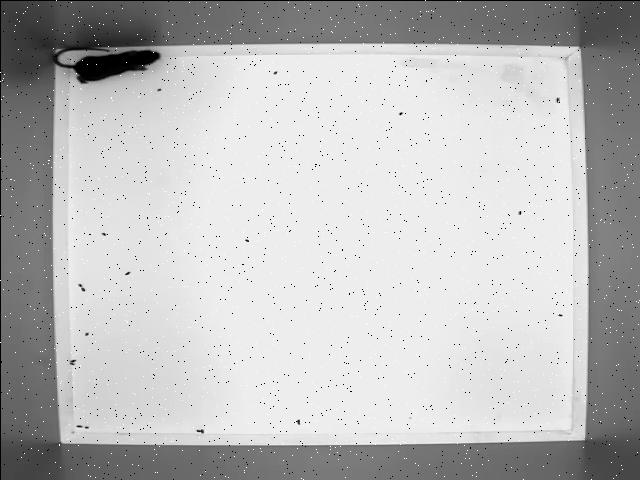Tikus: (49, 43, 161, 85)
